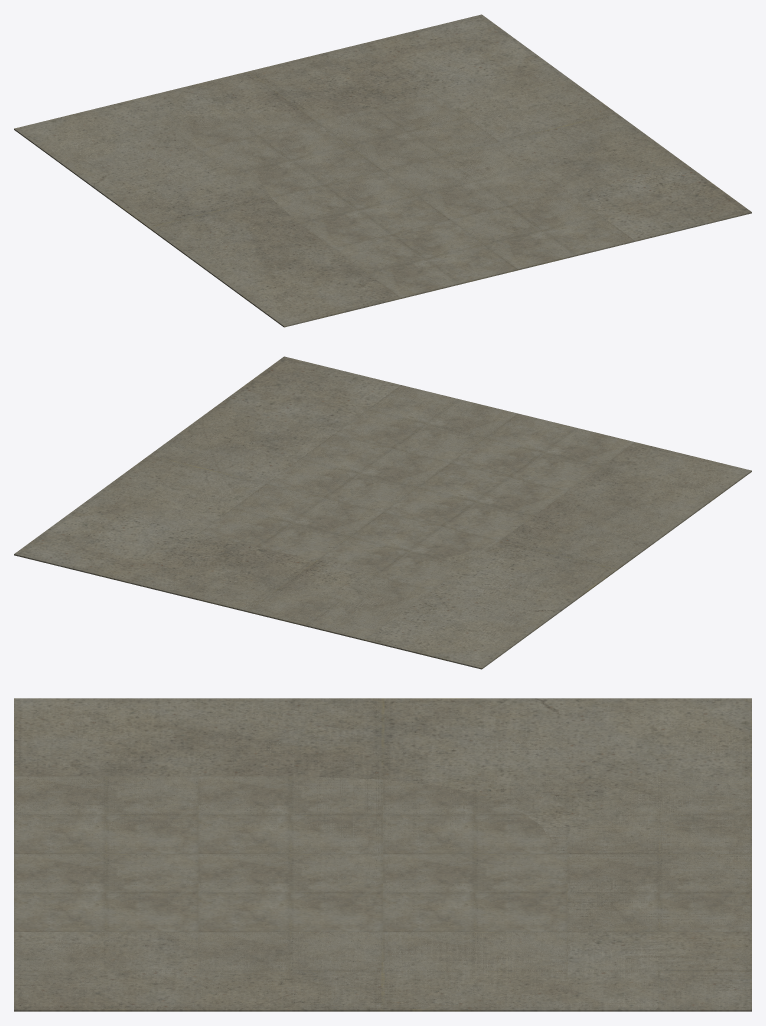
File: xTraUrgent Roads.glb
3 renders of one model, top to bottom at view 1: azimuth 30°, elevation 25°; view 2: azimuth 150°, elevation 25°; view 3: azimuth 270°, elevation 25°, orthographic. The views are drawn at different scales.
Parts seen in each view (by area): view 1: pavement2-col, through-col, l-col, pavement-col, t-col, cross-col; view 2: pavement2-col, through-col, l-col, pavement-col, t-col, cross-col; view 3: pavement2-col, l-col, through-col, t-col, pavement-col, cross-col, l.wide-col.
Boxes of the visible parts, x1,y1,x2,y2 form: pavement2-col: (16, 18, 682, 325); through-col: (14, 15, 682, 326); l-col: (14, 15, 751, 327); pavement-col: (57, 15, 751, 324); t-col: (17, 14, 750, 324); cross-col: (14, 15, 750, 326); pavement2-col: (82, 357, 749, 667); through-col: (84, 358, 751, 667); l-col: (14, 357, 751, 669); pavement-col: (22, 358, 740, 657); t-col: (14, 357, 750, 668); cross-col: (15, 446, 748, 668); pavement2-col: (14, 698, 751, 1011); l-col: (14, 698, 751, 1011); through-col: (14, 698, 751, 1011); t-col: (14, 698, 751, 1011); pavement-col: (14, 698, 751, 1011); cross-col: (14, 698, 751, 1011); l.wide-col: (14, 698, 735, 956).
Bounding box in the file's own units: 40 × 0.1 × 40.
3 materials, 2 textured.
